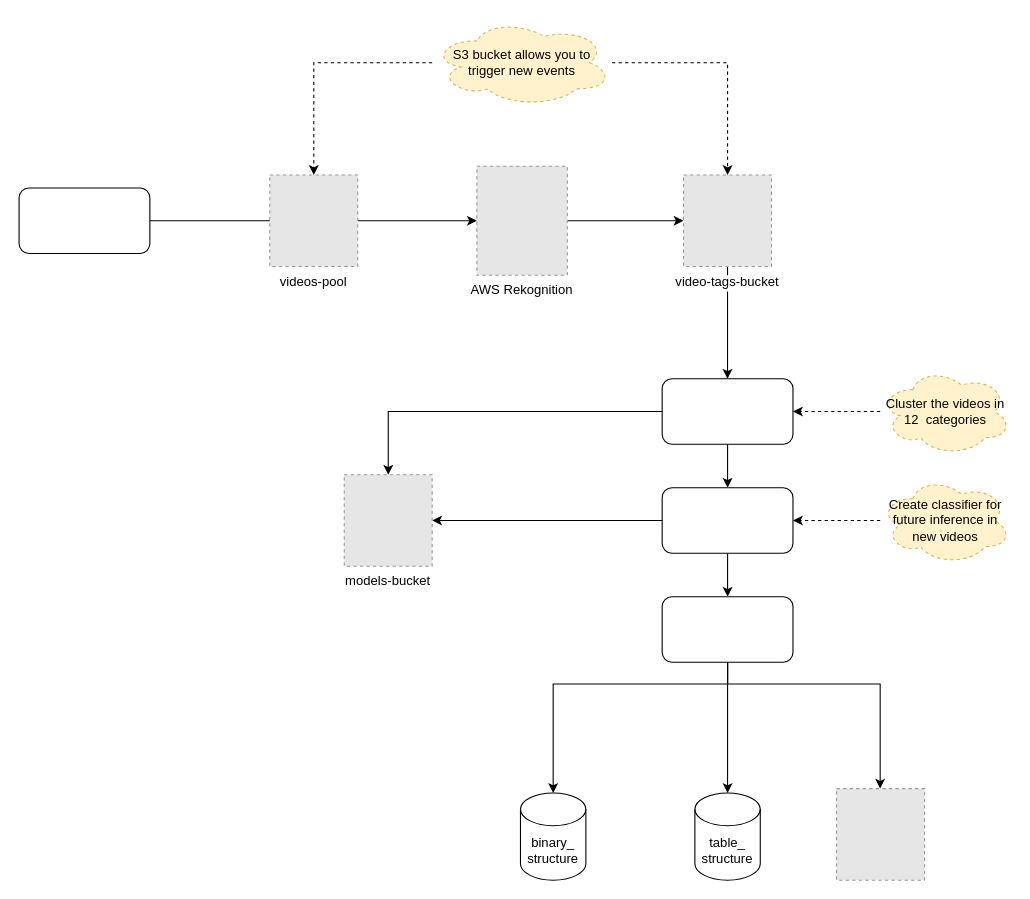
The diagram is 1030 pixels wide and 899 high, and some of its shapes have lost their labels. Grey dashed boxes stand in for pictures. Here are the shapes that lost their labels. From the top down, the centre of each, then its label:
At (84,220): "video_upload".
At (727,411): "herarchical clustering".
At (727,520): "Random forest Classifier".
At (727,629): "Video clustering {video_id : cluster_id}".
